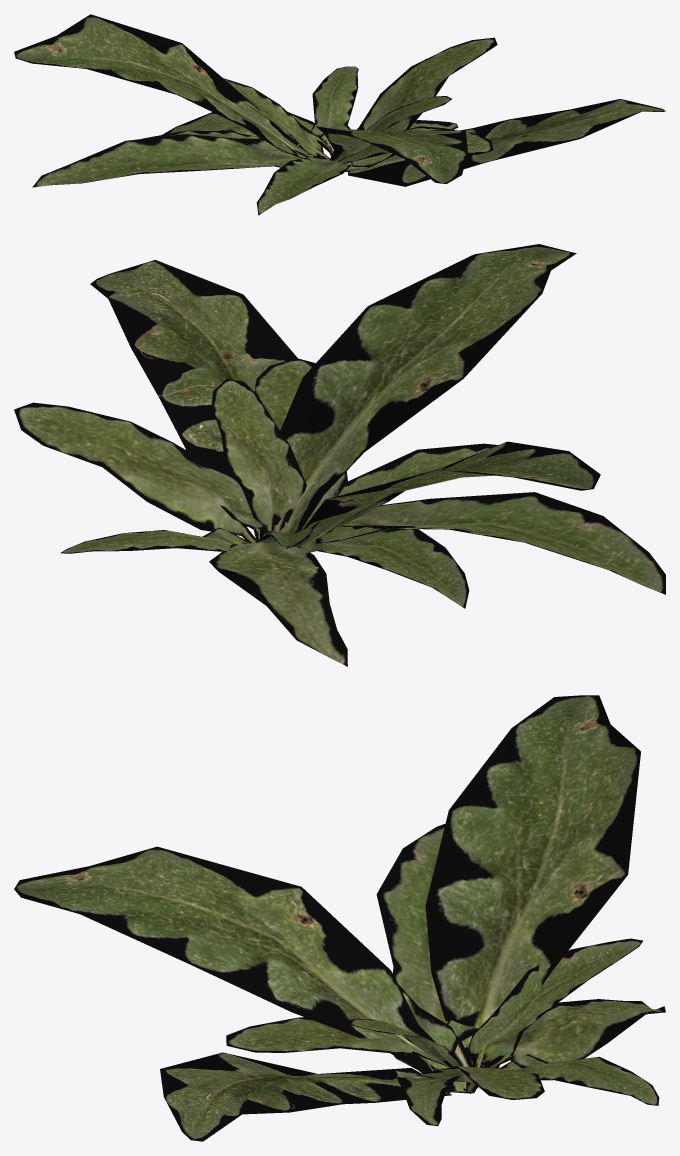
File: nama_gazania_c.glb
The picture shows the model from 3 angles, top to bottom: view 1: azimuth 30°, elevation 25°; view 2: azimuth 150°, elevation 25°; view 3: azimuth 270°, elevation 25°; orthographic projection. The views are drawn at different scales.
Parts seen in each view (by area): view 1: nama_gazania_c; view 2: nama_gazania_c; view 3: nama_gazania_c.
Part boxes in pixels (x1,y1,x2,y2): nama_gazania_c: (14, 14, 665, 215); nama_gazania_c: (14, 244, 665, 666); nama_gazania_c: (14, 695, 665, 1141).
Bounding box in the file's own units: 0.7226 × 0.2056 × 0.5581.
Materials: 1 (1 with a texture image).
